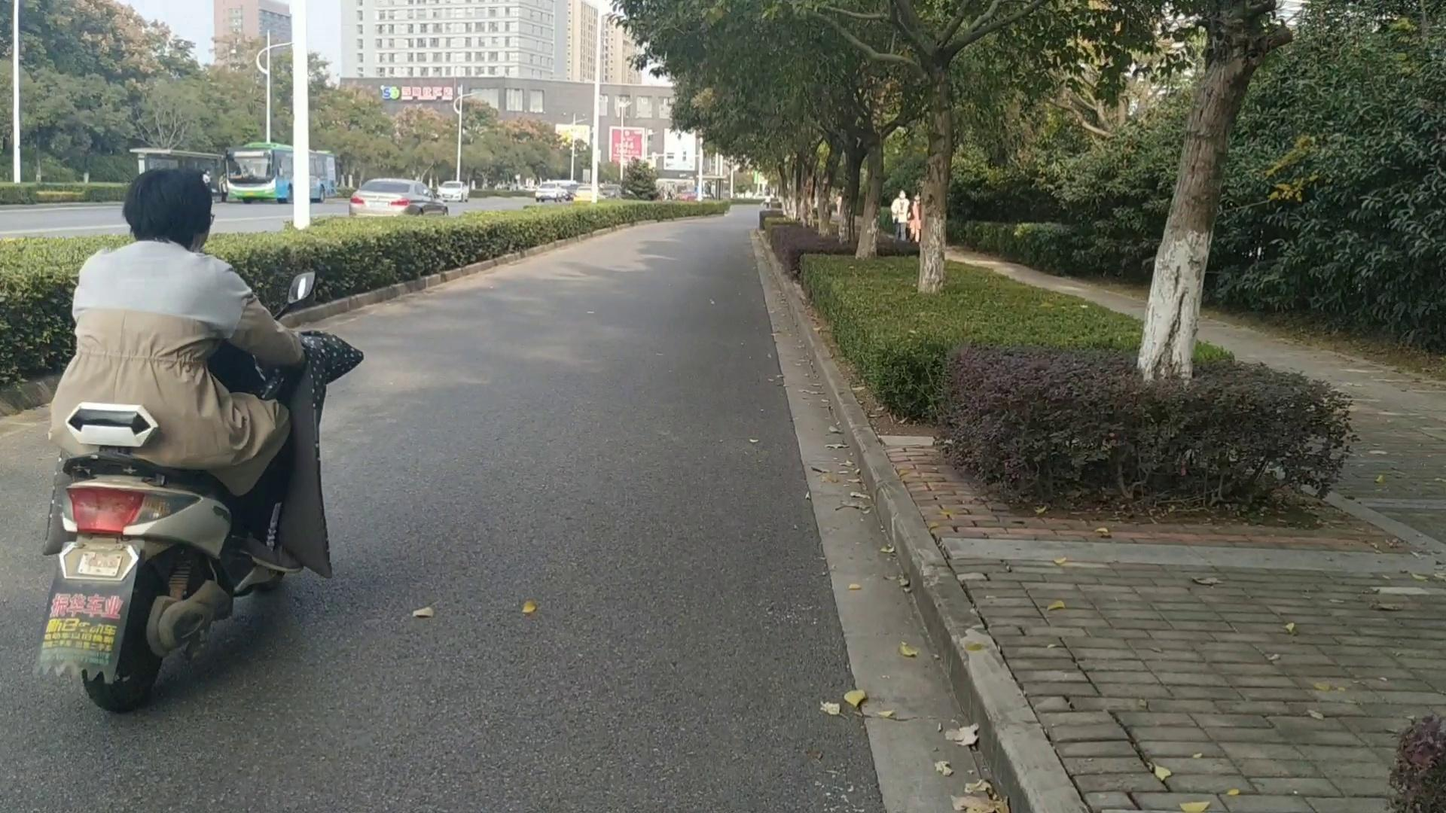car: (347, 178, 441, 215), (534, 179, 578, 203), (438, 180, 471, 202)
